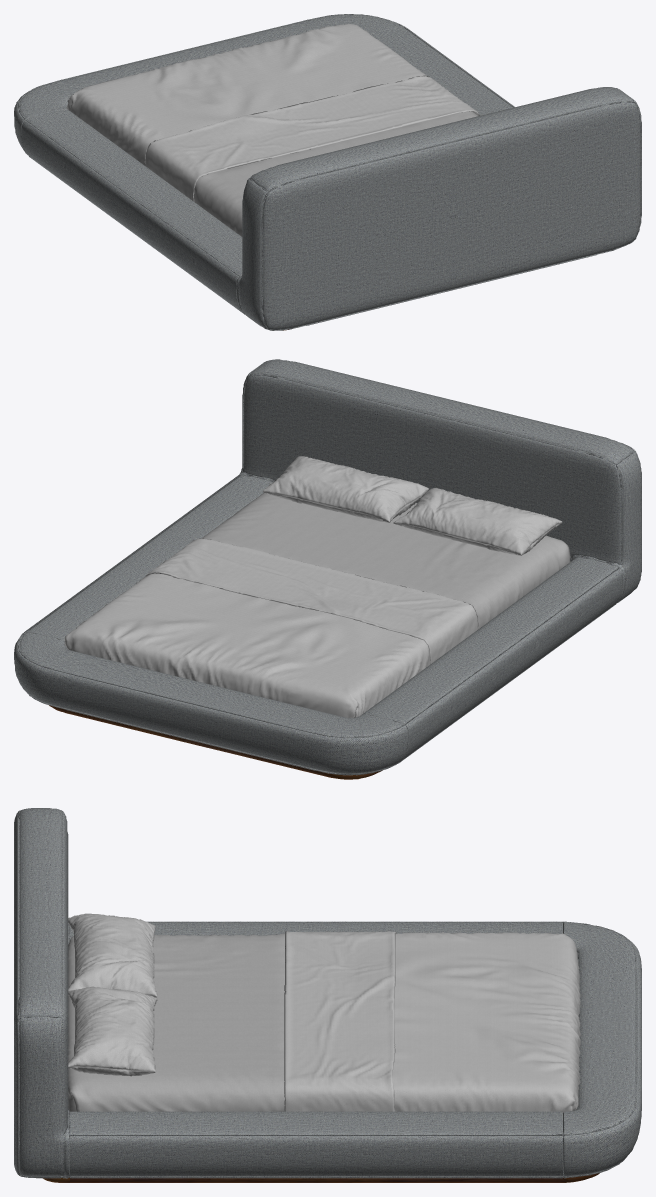
Rendered from furniture_1.glb.
3 views of the same model, one above another, from view 1: azimuth 30°, elevation 25°; view 2: azimuth 150°, elevation 25°; view 3: azimuth 270°, elevation 25° (orthographic). The views are drawn at different scales.
Parts seen in each view (by area): view 1: GF_bed.001, GF_blanket.001, GF_mattres.001, GF_piping.001; view 2: GF_bed.001, GF_blanket.001, GF_mattres.001, GF_pillow.001, GF_piping.001, GF_wood frame.001; view 3: GF_bed.001, GF_blanket.001, GF_mattres.001, GF_pillow.001, GF_piping.001, GF_wood frame.001.
Boxes of the visible parts, left/top/right/bottom form: GF_bed.001: left=14, top=14, right=641, bottom=330; GF_blanket.001: left=67, top=23, right=479, bottom=201; GF_mattres.001: left=193, top=111, right=477, bottom=236; GF_piping.001: left=18, top=14, right=641, bottom=330; GF_bed.001: left=14, top=359, right=641, bottom=775; GF_blanket.001: left=64, top=538, right=478, bottom=718; GF_mattres.001: left=201, top=492, right=570, bottom=629; GF_pillow.001: left=263, top=456, right=562, bottom=555; GF_piping.001: left=18, top=360, right=638, bottom=774; GF_wood frame.001: left=49, top=705, right=382, bottom=779; GF_bed.001: left=14, top=808, right=641, bottom=1178; GF_blanket.001: left=284, top=931, right=580, bottom=1112; GF_mattres.001: left=68, top=933, right=284, bottom=1111; GF_pillow.001: left=68, top=913, right=157, bottom=1076; GF_piping.001: left=18, top=810, right=636, bottom=1178; GF_wood frame.001: left=43, top=1173, right=599, bottom=1182.
Size of the model in its own units: 2.08 by 0.8359 by 2.53.
Materials: 5 (5 with a texture image).
